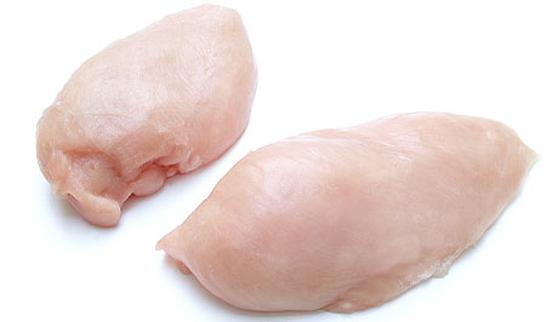chicken_fillet: (165, 108, 556, 318), (39, 3, 258, 228)
